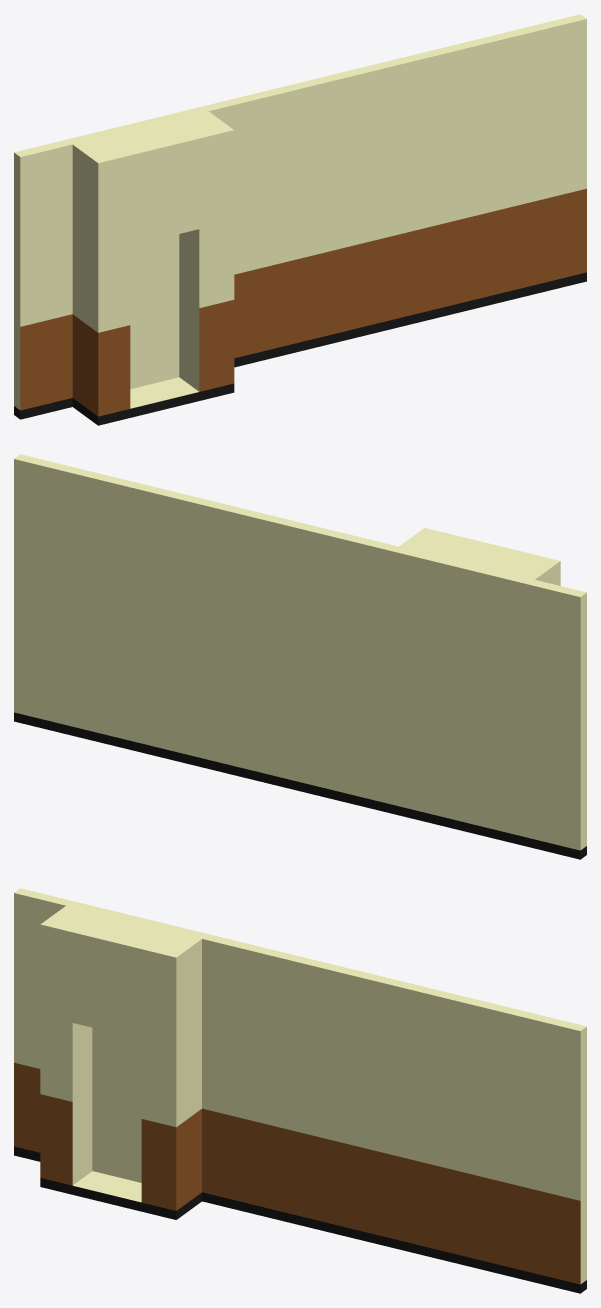
File: Wall 4.fbx
3 renders of one model, top to bottom at view 1: azimuth 30°, elevation 25°; view 2: azimuth 150°, elevation 25°; view 3: azimuth 330°, elevation 25°, orthographic.
Visible parts, largest first — view 1: Wall 4; view 2: Wall 4; view 3: Wall 4.
Boxes of the visible parts, x1=… form: Wall 4: x1=14, y1=14, x2=586, y2=425; Wall 4: x1=14, y1=454, x2=586, y2=859; Wall 4: x1=14, y1=888, x2=586, y2=1293.
Size of the model in its own units: 655 by 290 by 64.37.
